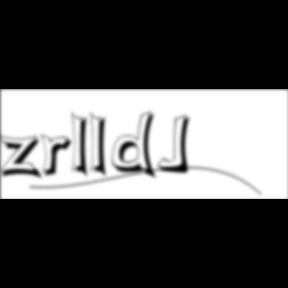I: (72, 110, 96, 182), (90, 110, 114, 182)
J: (158, 114, 197, 176)
d: (112, 110, 162, 182)
r: (41, 134, 79, 180)
z: (0, 134, 48, 182)
